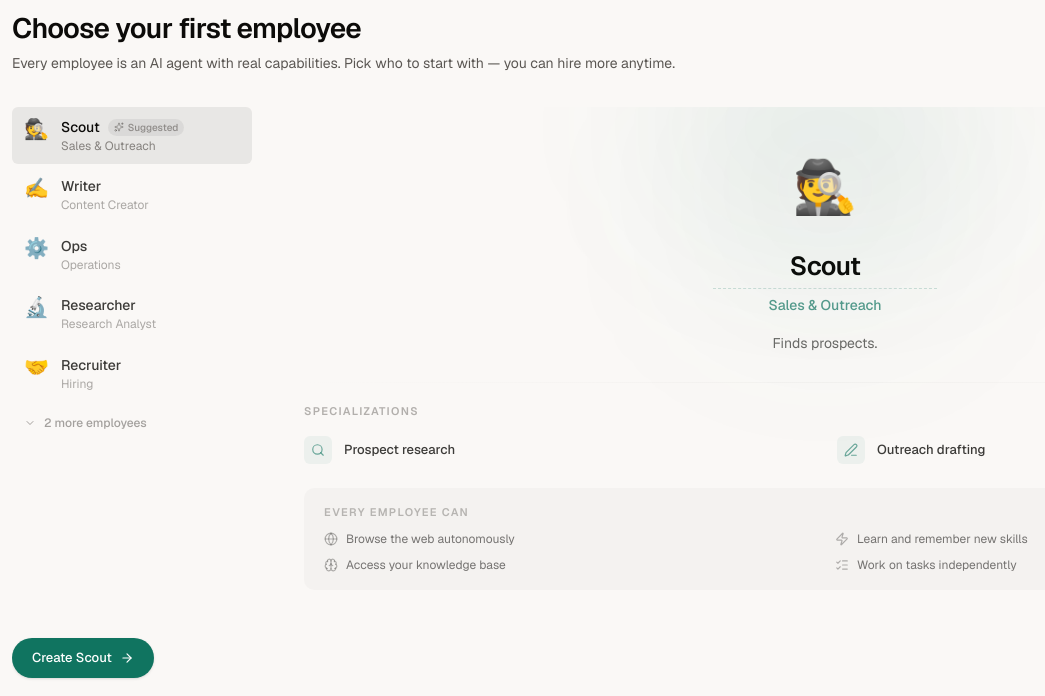
Scenario: StepAgent › selecting a different agent updates detail card
The width and height of the screenshot is (1045, 696).
expect the text "Finds prospects." is shown: met, box [772,334,877,352]
Click the button "✍️ Writer Content Creator" at point(132, 195), box [12,166,252,224]
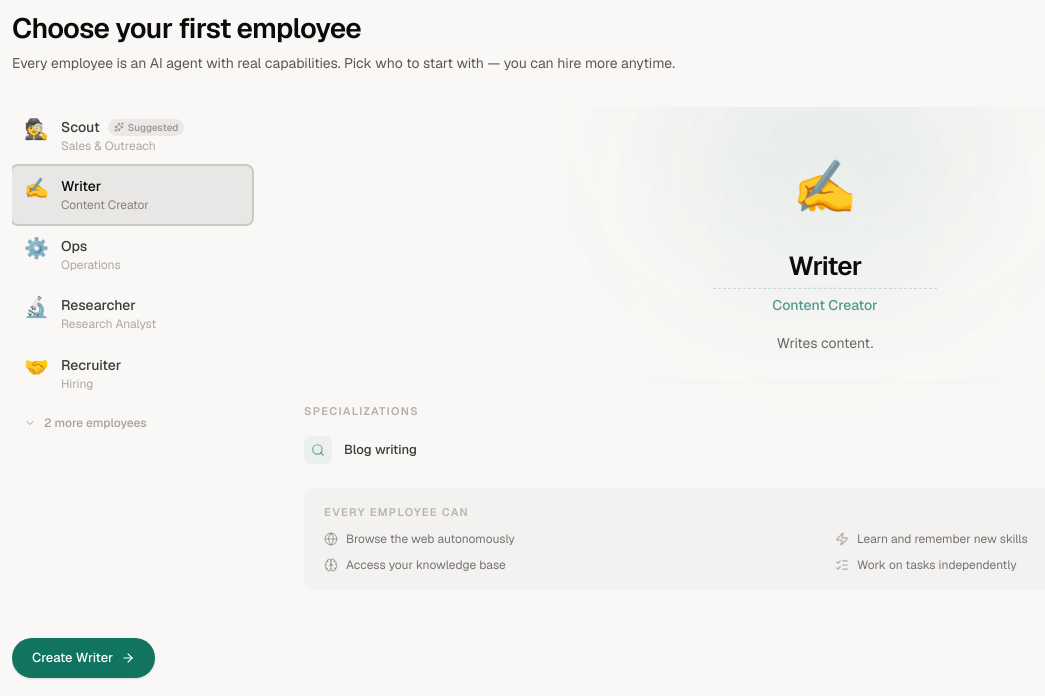
expect the text "Writes content." is shown: met, box [777,334,873,352]
